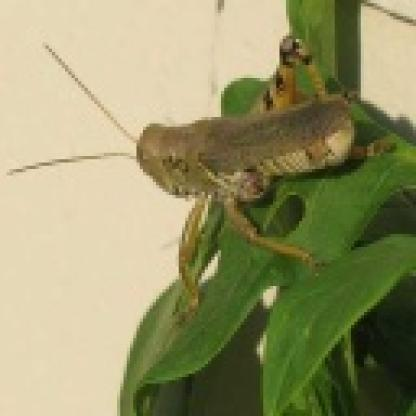grasshopper: (97, 34, 379, 272)
